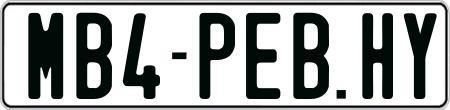4: (123, 10, 163, 101)
B: (291, 11, 333, 97), (73, 11, 113, 101)
E: (244, 11, 279, 99)
H: (361, 12, 397, 104)
M: (26, 11, 61, 103)
P: (197, 12, 235, 101)
Y: (403, 13, 431, 104)
